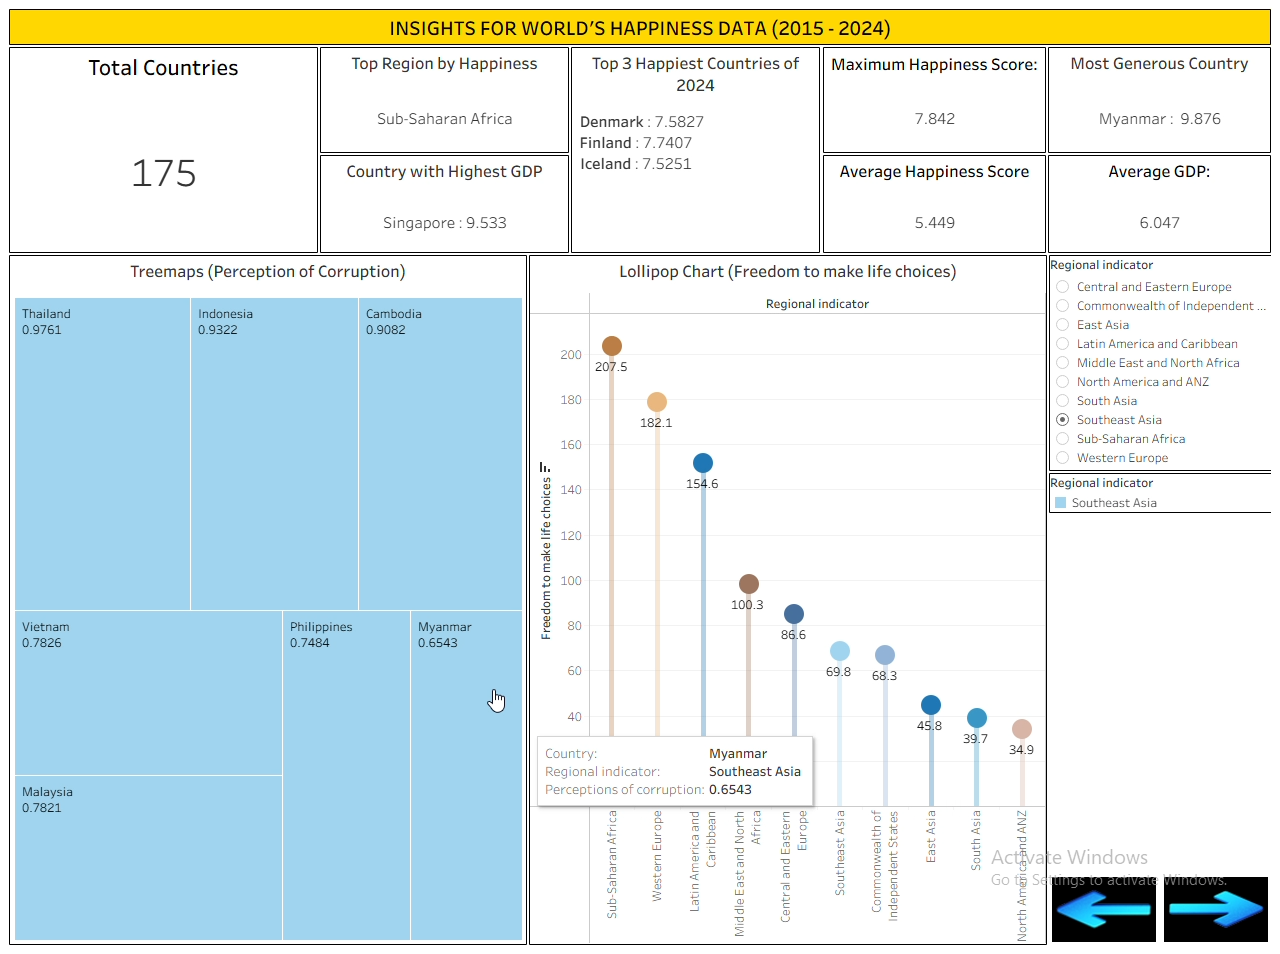

This screenshot's page, from the dashboard's own definition file:
{"tool":"tableau","page":{"name":"Dashboard 4","canvas":[1000,1000],"units":"permille","ordinal":3},"visuals":[{"type":"text","box":[6.2,8.4,987.5,40.2]},{"type":"image","param":"Image/happiness 1.png","box":[223.6,12.5,27.1,33.8]},{"type":"image","param":"Image/happiness 1.png","box":[749.3,12.5,27.1,33.8]},{"type":"worksheet","title":"Total Countries","mark":"Automatic","box":[6.2,48.6,242.9,217.5]},{"type":"worksheet","title":"Top Region by Happiness","mark":"Automatic","box":[249.1,48.6,196.5,113.2]},{"type":"worksheet","title":"Top 3 Happiest Countries of 2024","mark":"Text","box":[445.6,48.6,196.5,217.5]},{"type":"worksheet","title":"Maximum Happiness Score","mark":"Automatic","box":[642.1,48.6,175.8,113.2]},{"type":"worksheet","title":"Most Generous Country","mark":"Automatic","box":[817.9,48.6,175.8,113.2]},{"type":"worksheet","title":"Country with Highest GDP","mark":"Automatic","box":[249.1,161.8,196.5,104.4]},{"type":"worksheet","title":"Average Happiness Score","mark":"Automatic","box":[642.1,161.8,175.8,104.4]},{"type":"worksheet","title":"Average GDP","mark":"Automatic","box":[817.9,161.8,175.8,104.4]},{"type":"worksheet","title":"Treemaps (Perception of Corruption)","mark":"Square","box":[6.2,266.1,406.1,725.5]},{"type":"worksheet","title":"Lollipop chart freedom to make life choices","mark":"Automatic","rows":["Freedom to make life choices","Freedom to make life choices"],"cols":["Regional indicator"],"box":[412.3,266.1,406.1,725.5]},{"type":"filter","title":"Treemaps (Perception of Corruption)","param":"[federated.0bmoz6j1ncyzlt1dp10531xplwxu].[none:Regional indicator:nk]","box":[818.4,266.1,175.4,228.5]},{"type":"legend","title":"Treemaps (Perception of Corruption)","param":"[federated.0bmoz6j1ncyzlt1dp10531xplwxu].[none:Regional indicator:nk]","box":[818.4,494.6,175.4,44]},{"type":"dashboard-object","box":[818.4,914.9,87.7,76.7]},{"type":"dashboard-object","box":[906.1,914.9,87.7,76.7]}]}

Visuals, with their boxes on the dashboard's canvas, which has no fixed pixel size, in thousandths of its width and height (x1, y1, x2, y2). These are canvas units, not pixel positions in the 1280x954 screenshot, which may show the page scaled, cropped or inside an application window:
text: (x1=6, y1=8, x2=994, y2=49)
image: (x1=224, y1=12, x2=251, y2=46)
image: (x1=749, y1=12, x2=776, y2=46)
"Total Countries" worksheet: (x1=6, y1=49, x2=249, y2=266)
"Top Region by Happiness" worksheet: (x1=249, y1=49, x2=446, y2=162)
"Top 3 Happiest Countries of 2024" worksheet (Text marks): (x1=446, y1=49, x2=642, y2=266)
"Maximum Happiness Score" worksheet: (x1=642, y1=49, x2=818, y2=162)
"Most Generous Country" worksheet: (x1=818, y1=49, x2=994, y2=162)
"Country with Highest GDP" worksheet: (x1=249, y1=162, x2=446, y2=266)
"Average Happiness Score" worksheet: (x1=642, y1=162, x2=818, y2=266)
"Average GDP" worksheet: (x1=818, y1=162, x2=994, y2=266)
"Treemaps (Perception of Corruption)" worksheet (Square marks): (x1=6, y1=266, x2=412, y2=992)
"Lollipop chart freedom to make life choices" worksheet: (x1=412, y1=266, x2=818, y2=992)
"Treemaps (Perception of Corruption)" filter: (x1=818, y1=266, x2=994, y2=495)
"Treemaps (Perception of Corruption)" legend: (x1=818, y1=495, x2=994, y2=539)
dashboard-object: (x1=818, y1=915, x2=906, y2=992)
dashboard-object: (x1=906, y1=915, x2=994, y2=992)
